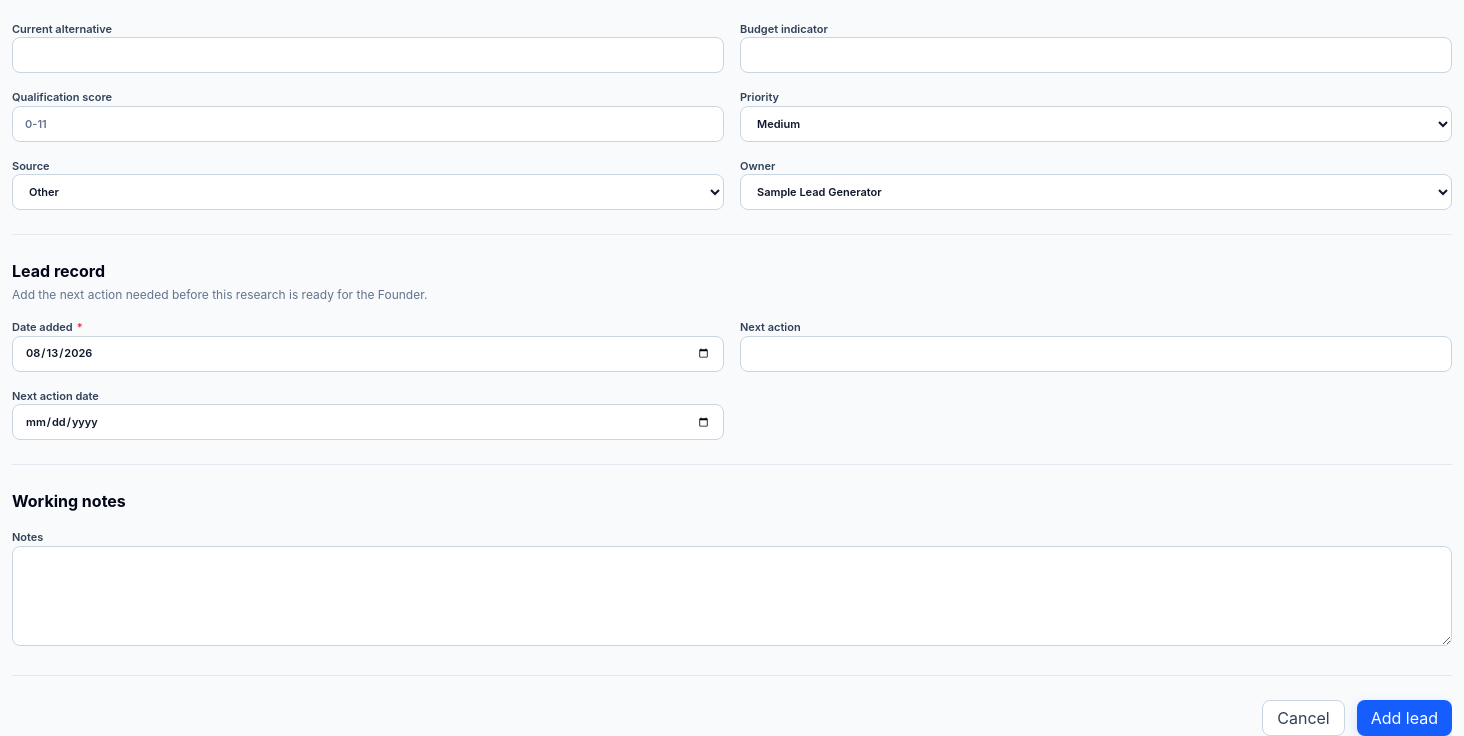
Test: lead form › requires a company name before saving
(page scrolled)
Click the button "Add lead" at [1404, 718], box top-left (1357, 700), bottom-right (1452, 735)
(page scrolled)
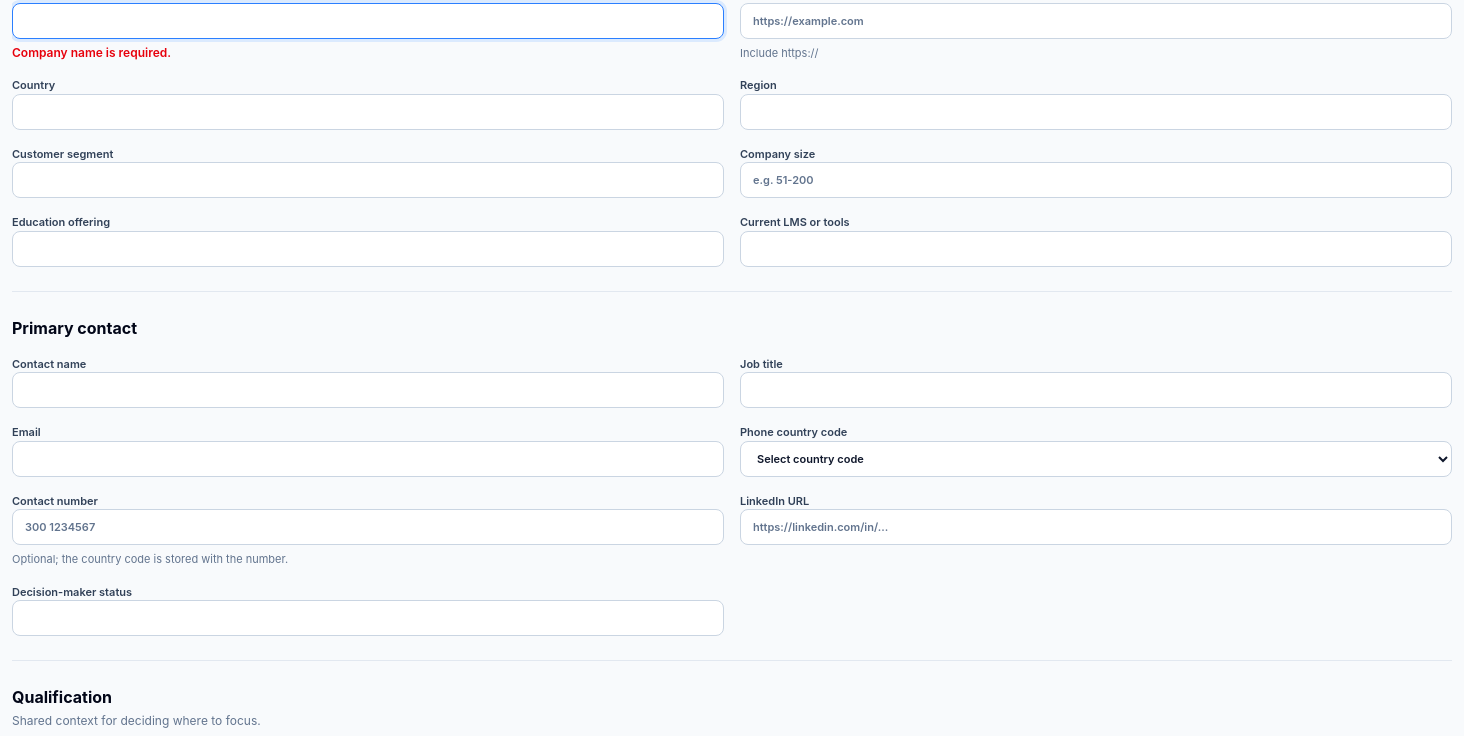
Check: the text "Company name is required." is shown, box top-left (12, 44), bottom-right (171, 60)
